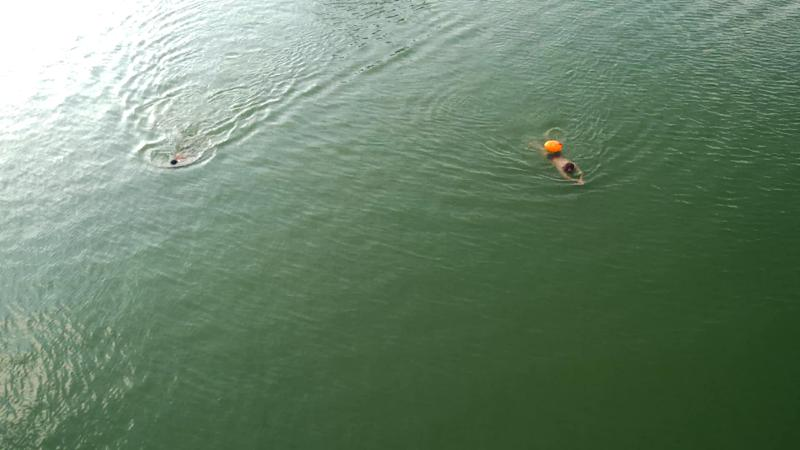swimmers: (527, 137, 585, 187)
